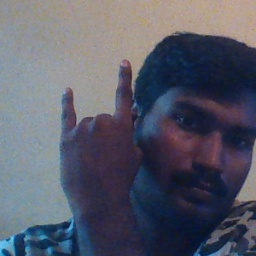V: (55, 55, 149, 207)
